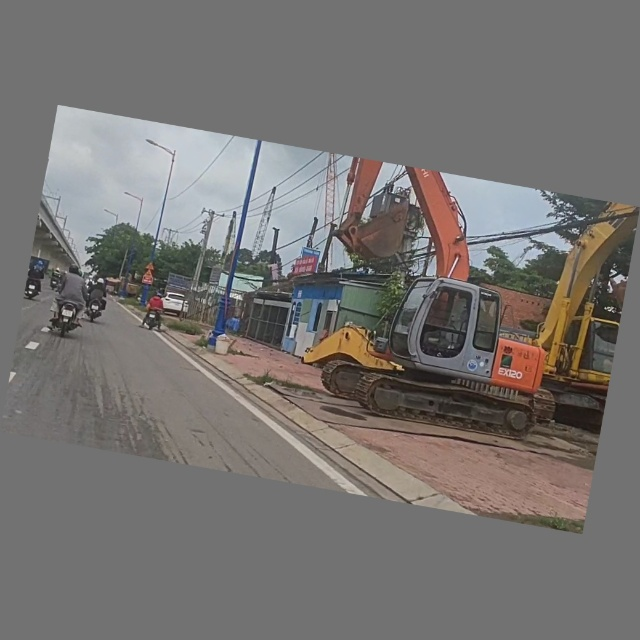W.203c: (145, 262, 157, 271)
W.245a: (143, 270, 156, 279)
